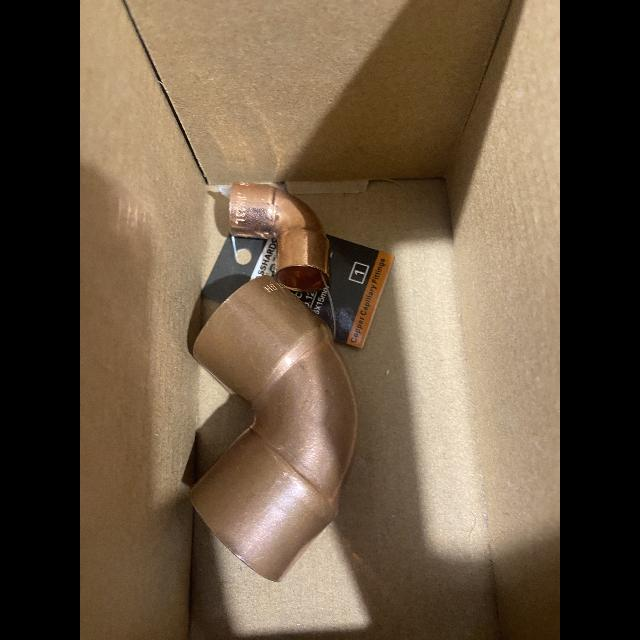Copper: (191, 276, 358, 581), (229, 183, 329, 290)
